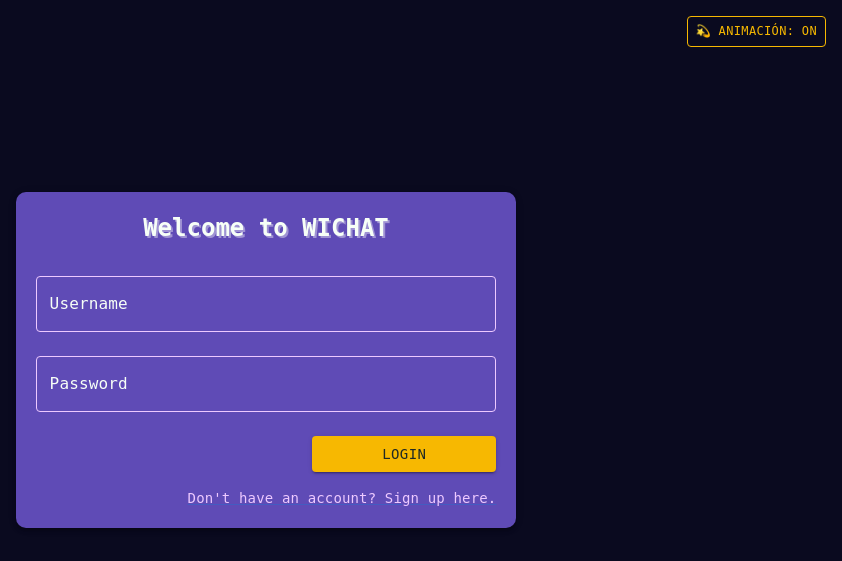
Test: Login component › should show error when an unexpected error occurred
The width and height of the screenshot is (842, 561).
Step 1. Type "testUser" into the field labelled "Username" → (266, 304), box [36,276,496,332]
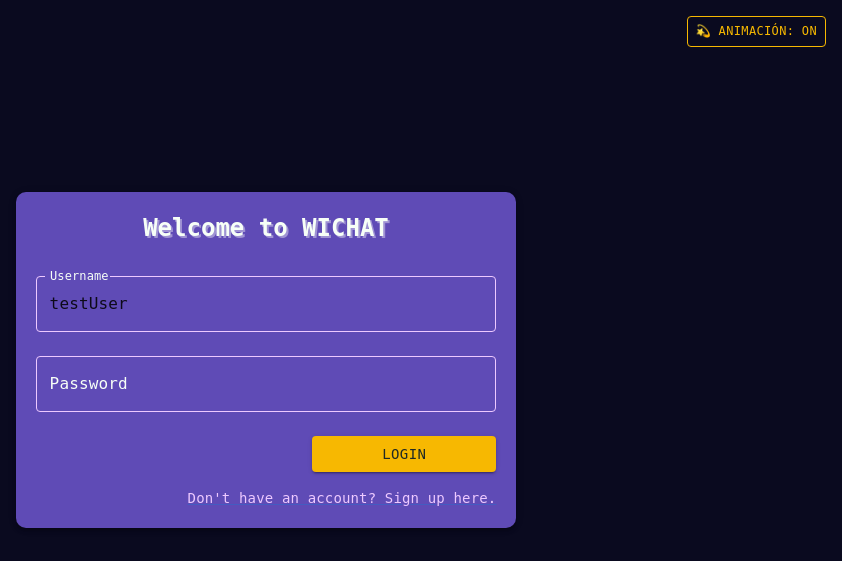
Step 2. Type "wPass" into the password field labelled "Password" → (266, 384), box [36,356,496,412]
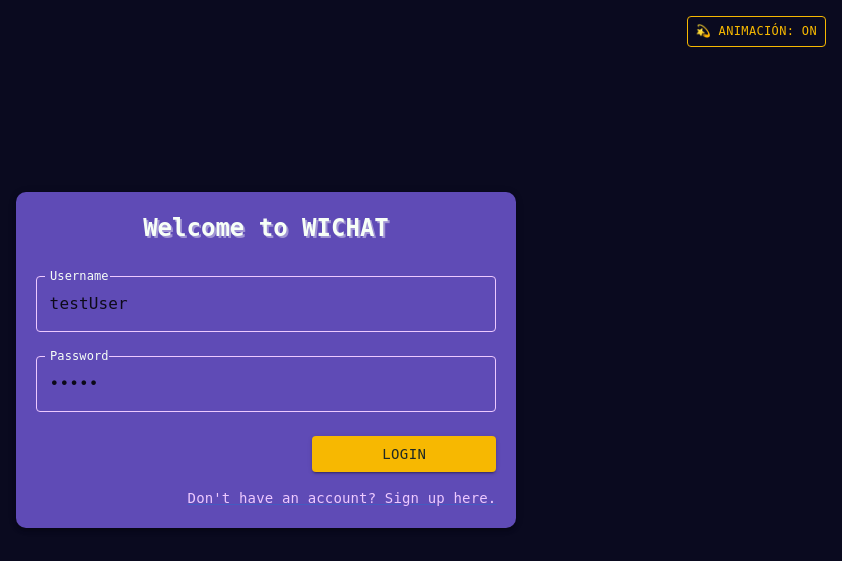
Step 3. Click the button "Login" → click(404, 454), box [312,436,496,472]
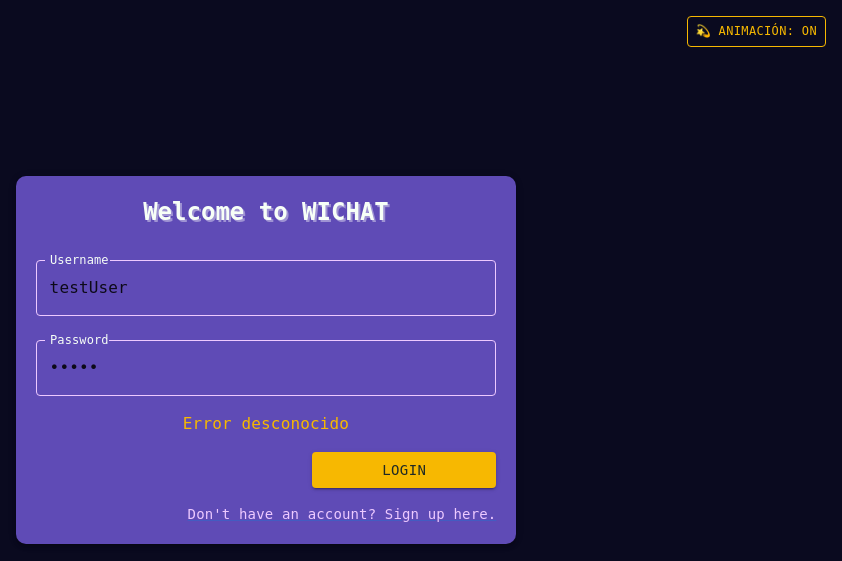
Now the text "Error desconocido" is shown, box [183,414,349,433]
